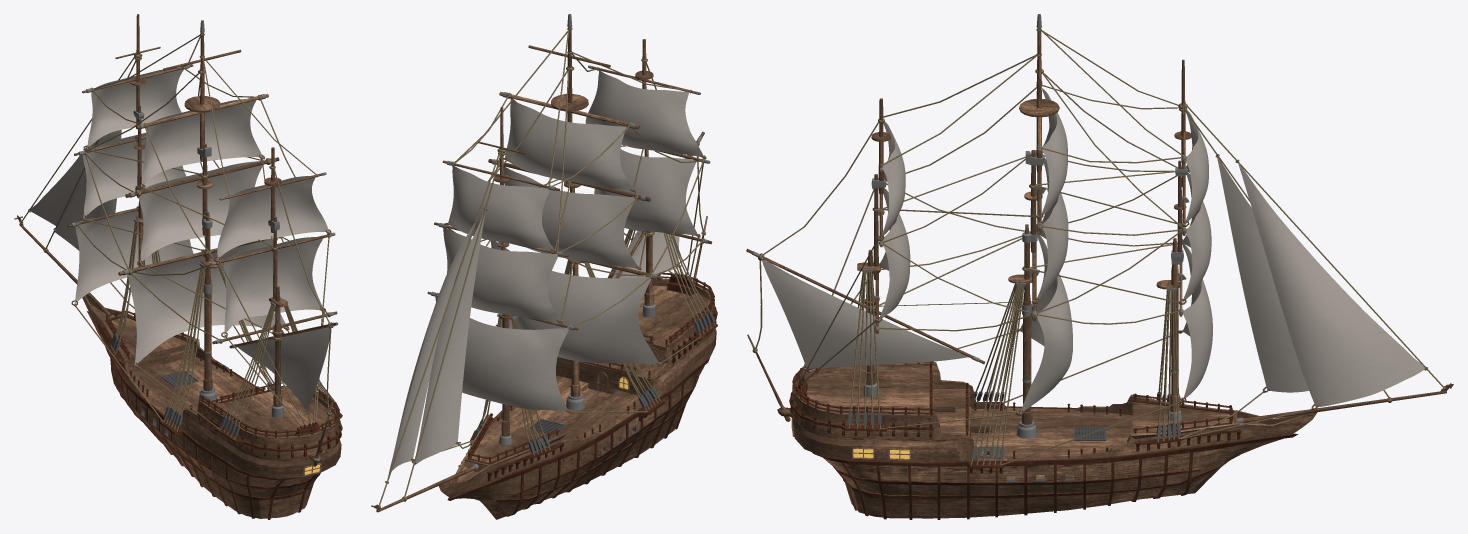
File: PirateShip_optimized.glb
3 views of the same model, side by side, from view 1: azimuth 30°, elevation 25°; view 2: azimuth 150°, elevation 25°; view 3: azimuth 270°, elevation 25° (orthographic). The views are drawn at different scales.
Visible parts, largest first — view 1: BackJib_Sails_0, MainShip_MainShip_0, ForeMast_Poles_0, Cylinder.068_Ropes_0, BeamDetails_Details_0, ForeshroudDetail_Metal_0; view 2: BackJib_Sails_0, MainShip_MainShip_0, Cylinder.068_Ropes_0, ForeMast_Poles_0, BeamDetails_Details_0, ForeshroudDetail_Metal_0; view 3: BackJib_Sails_0, MainShip_MainShip_0, Cylinder.068_Ropes_0, ForeMast_Poles_0, BeamDetails_Details_0, ForeshroudDetail_Metal_0.
Boxes of the visible parts, box(x1,y1,x2,y2) form: BackJib_Sails_0: box(30, 68, 329, 411); MainShip_MainShip_0: box(71, 145, 342, 518); ForeMast_Poles_0: box(14, 14, 338, 466); Cylinder.068_Ropes_0: box(19, 33, 340, 439); BeamDetails_Details_0: box(97, 310, 341, 519); ForeshroudDetail_Metal_0: box(110, 334, 339, 437); BackJib_Sails_0: box(387, 70, 703, 478); MainShip_MainShip_0: box(411, 155, 717, 519); Cylinder.068_Ropes_0: box(378, 28, 715, 508); ForeMast_Poles_0: box(371, 14, 712, 512); BeamDetails_Details_0: box(458, 272, 716, 516); ForeshroudDetail_Metal_0: box(473, 311, 715, 455); BackJib_Sails_0: box(762, 88, 1425, 414); MainShip_MainShip_0: box(789, 151, 1318, 518); Cylinder.068_Ropes_0: box(752, 28, 1445, 465); ForeMast_Poles_0: box(746, 14, 1453, 438); BeamDetails_Details_0: box(790, 361, 1241, 519); ForeshroudDetail_Metal_0: box(848, 391, 1180, 482).
Size of the model in its own units: 159 by 390 by 511.
Materials: 8 (8 with a texture image).
